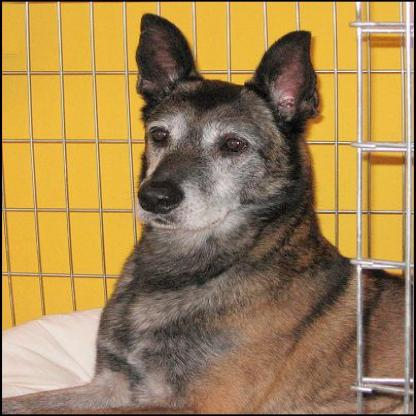malinois: (2, 12, 413, 410)
